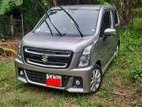car: (14, 3, 122, 100)
